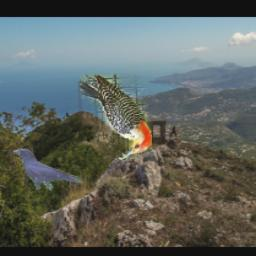Crow: (12, 149, 82, 193)
Woodpecker: (78, 75, 151, 161)
